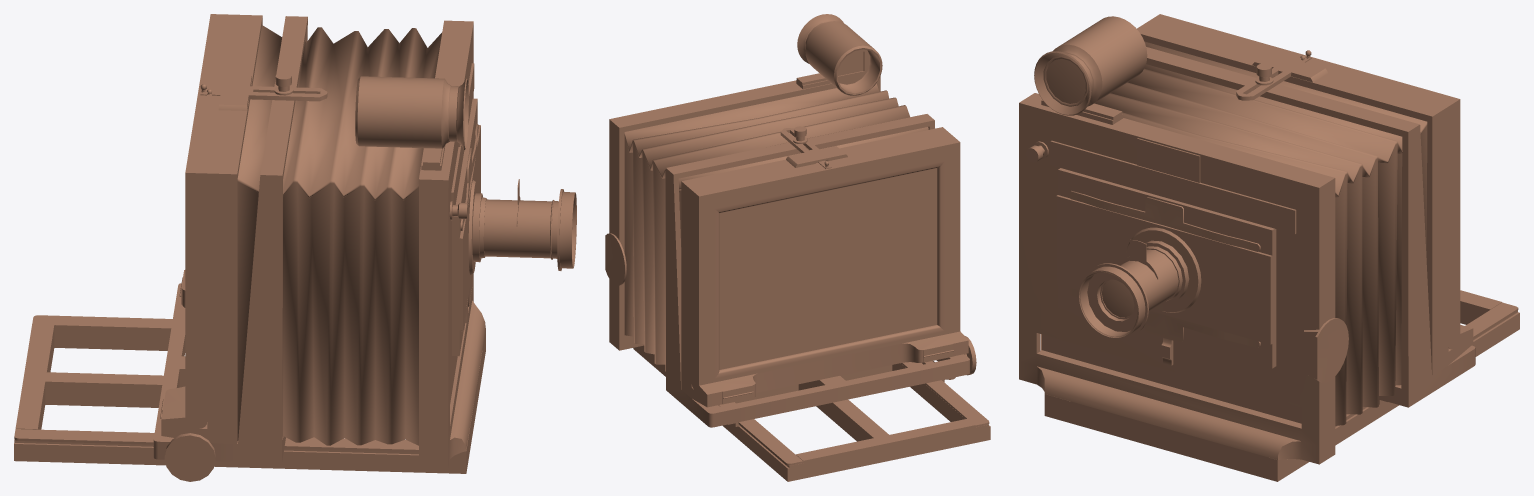
File: Amalia_Escenario_uno_Camera.fbx
3 renders of one model, left to right at view 1: azimuth 30°, elevation 25°; view 2: azimuth 150°, elevation 25°; view 3: azimuth 270°, elevation 25°, orthographic. The views are drawn at different scales.
Visible parts, largest first — view 1: polySurface200; view 2: polySurface200; view 3: polySurface200.
Part boxes in pixels (x1,y1,x2,y2): polySurface200: (14, 14, 576, 481); polySurface200: (605, 14, 990, 481); polySurface200: (1019, 14, 1519, 481).
Size of the model in its own units: 1.83 by 1.38 by 1.7.
